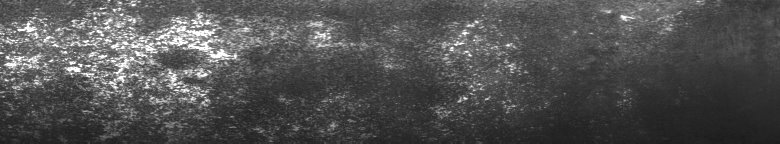kb: (4, 4, 692, 136)
